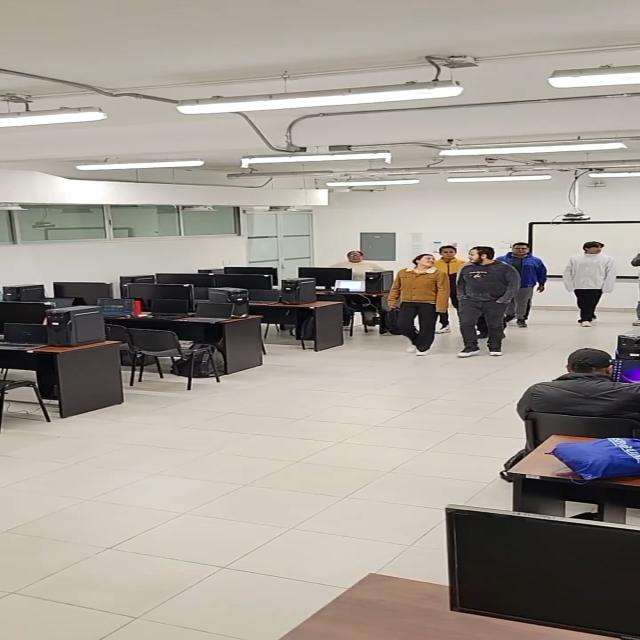Persona: (454, 246, 522, 358), (388, 254, 450, 356), (563, 241, 617, 328), (493, 242, 548, 327), (433, 244, 470, 334)
